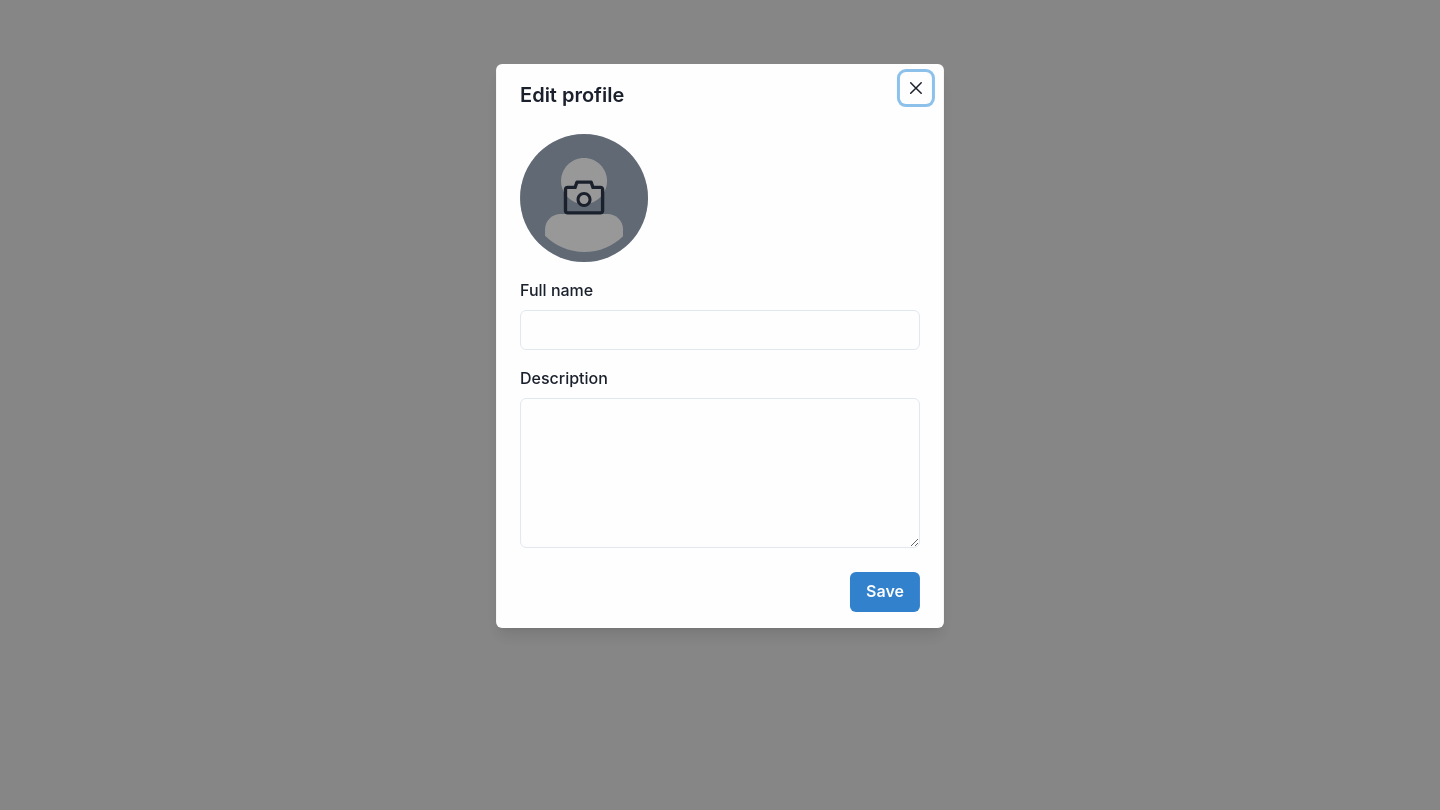
EditProfileModal › form › full name input › should show error message on submit if value is empty
The width and height of the screenshot is (1440, 810).
Expected: the dialog "Edit profile Full name Description Save" is shown, [496,64,944,628]
Clear the field at (720, 330), box [520,310,920,350]
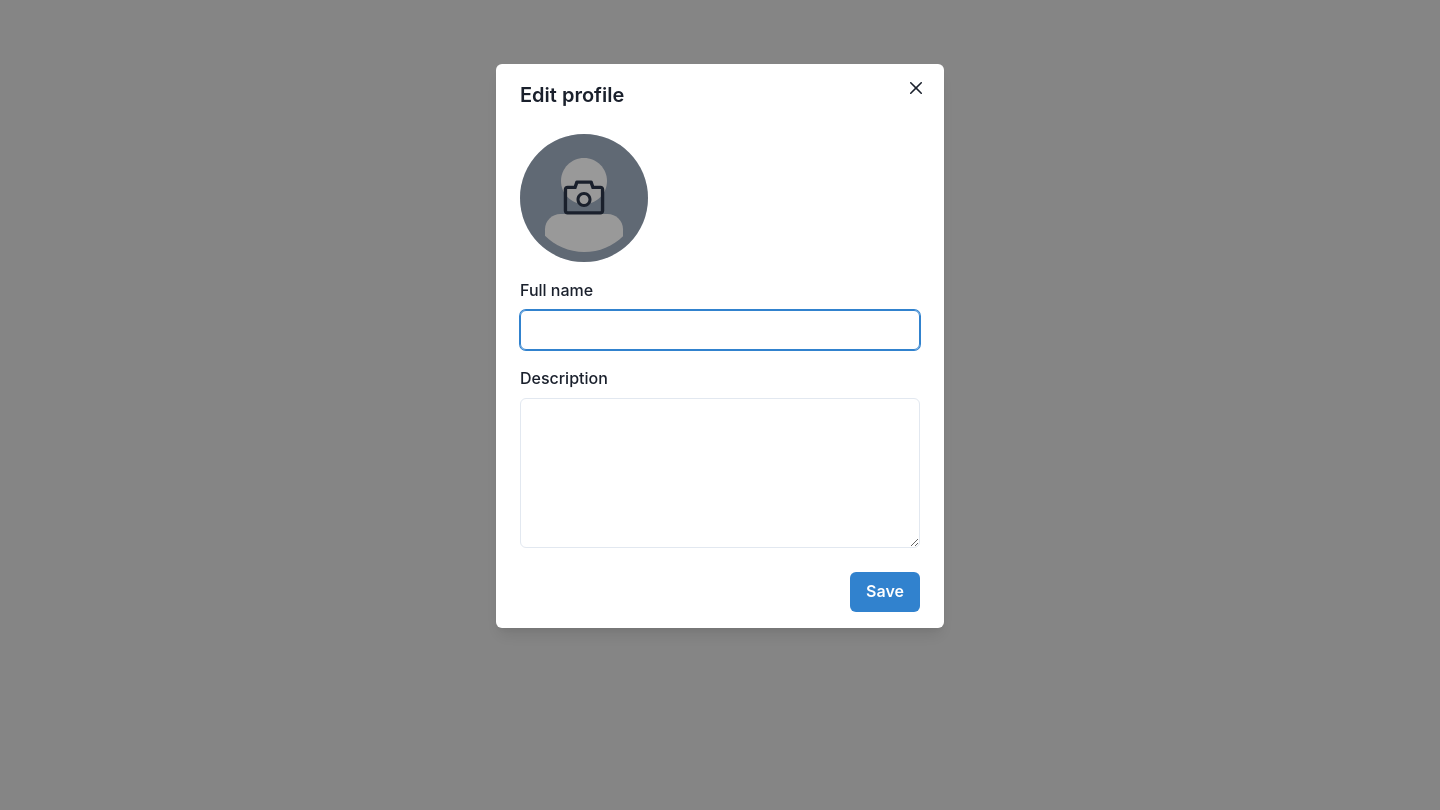
Click the button "Save" at (885, 592), box [850,572,920,612]
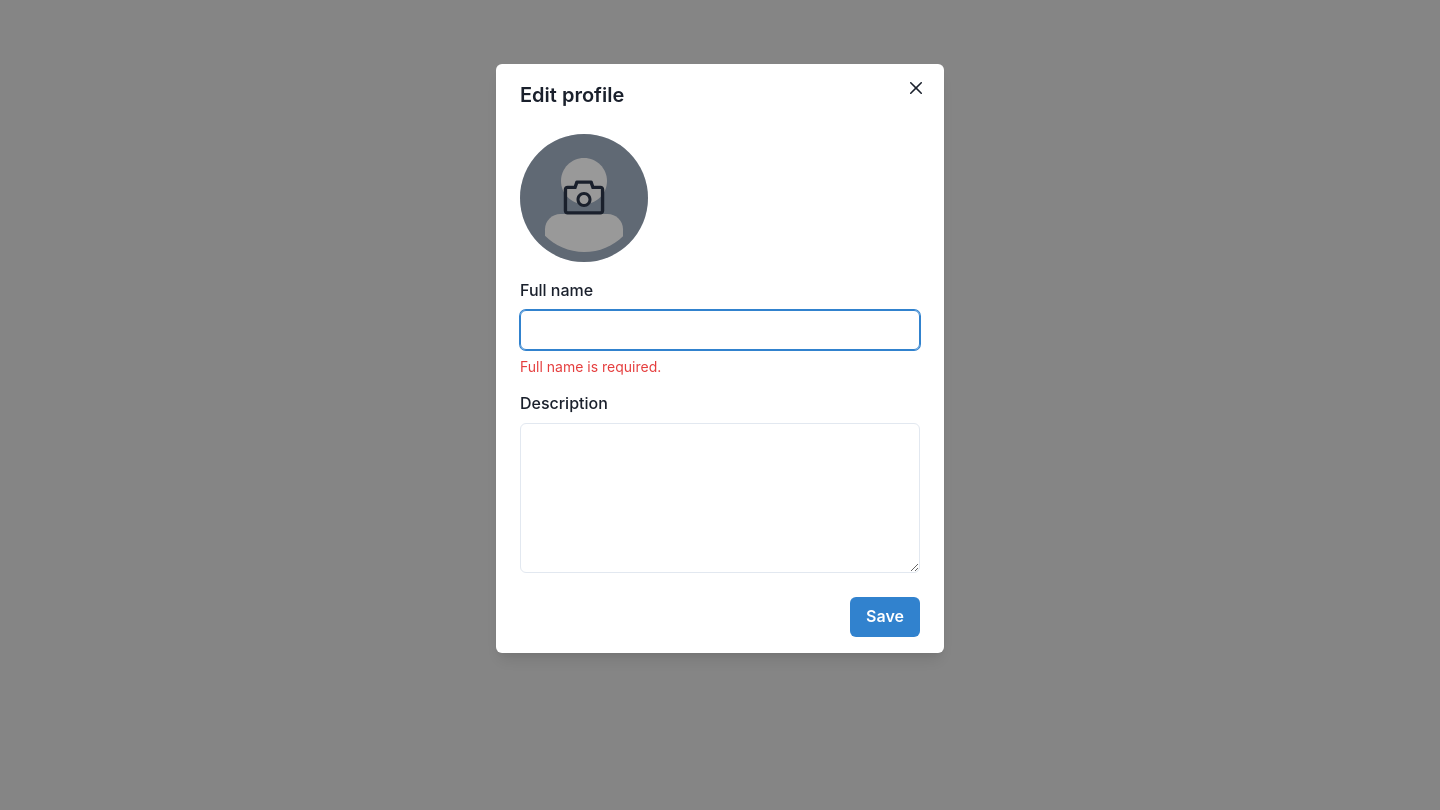
Now the message shows "required", box [520,358,661,375]
